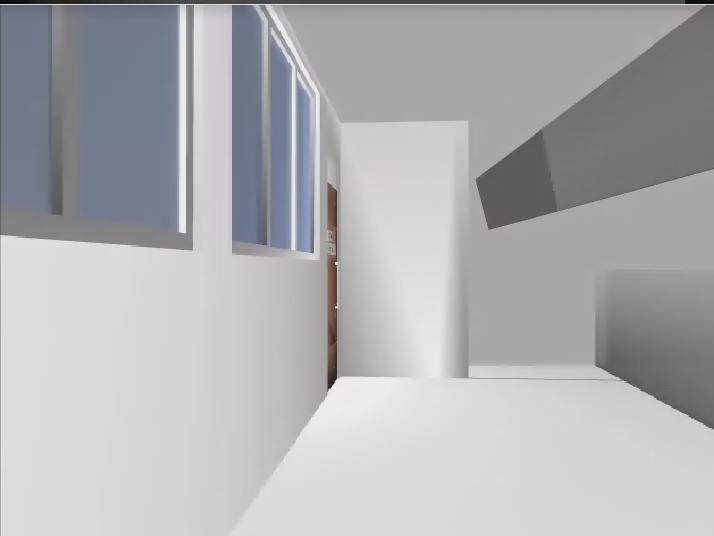door: (328, 183, 337, 392)
